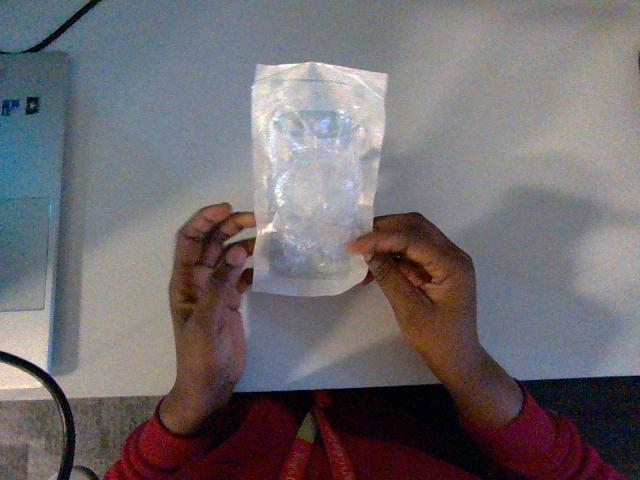gallipot: (252, 62, 386, 295)
